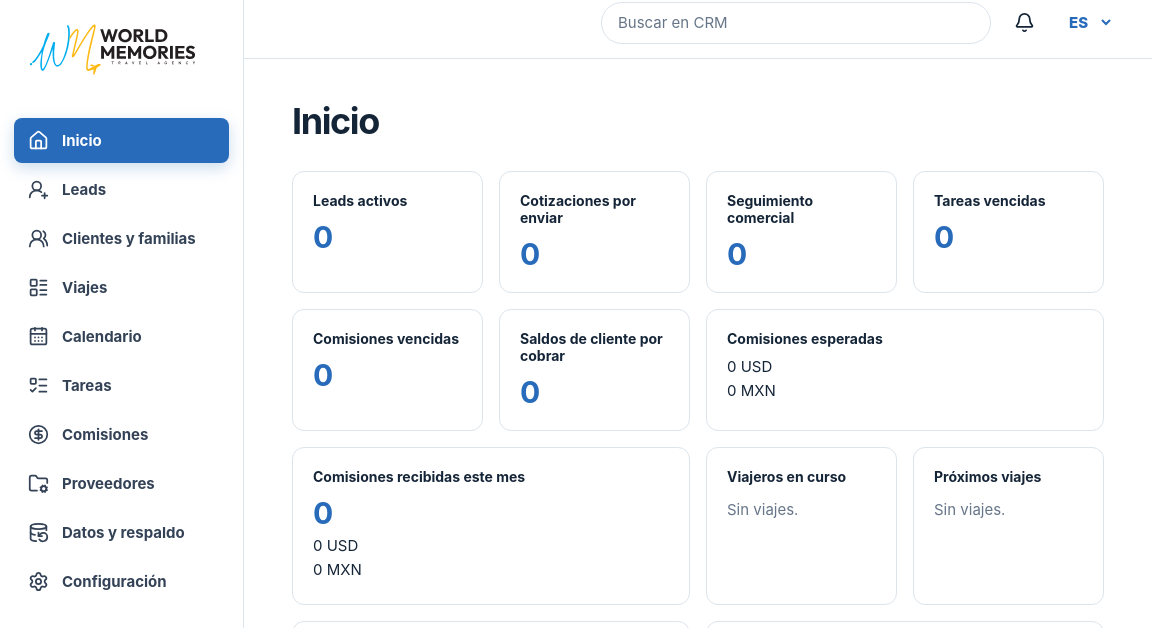
Test: application shell › edits a Client from its visible action menu and persists the correction
The image size is (1152, 628).
Click the button "Clientes y familias": (122,239) [14,216,229,261]
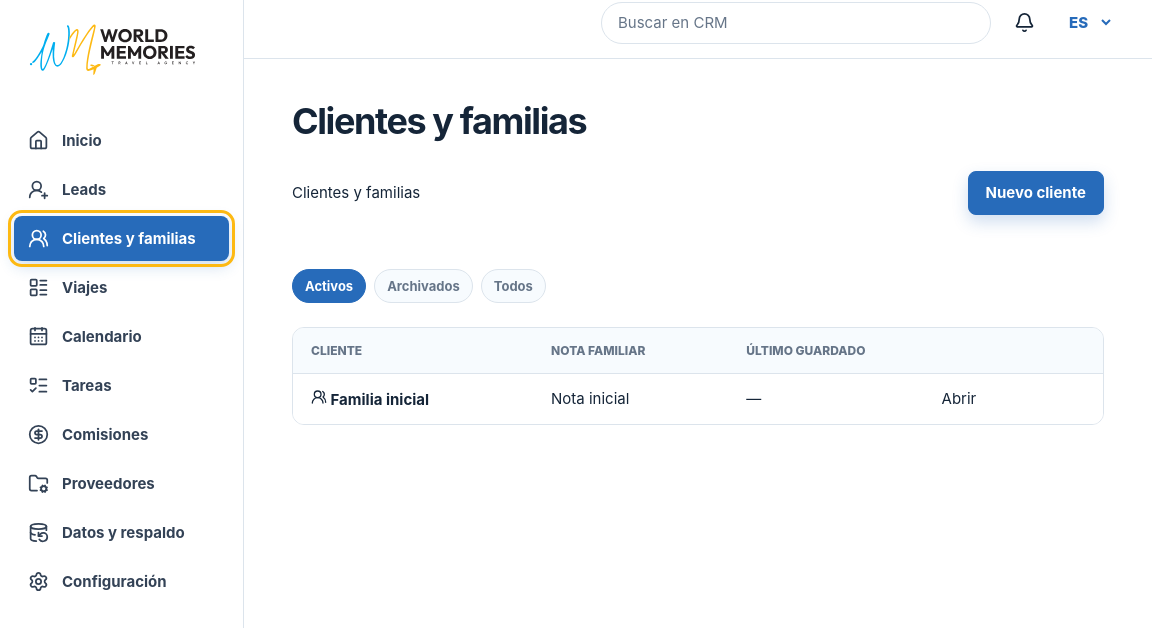
Click the button "Familia inicial Nota inicial — Abrir": (380,399) [293,373,1103,424]
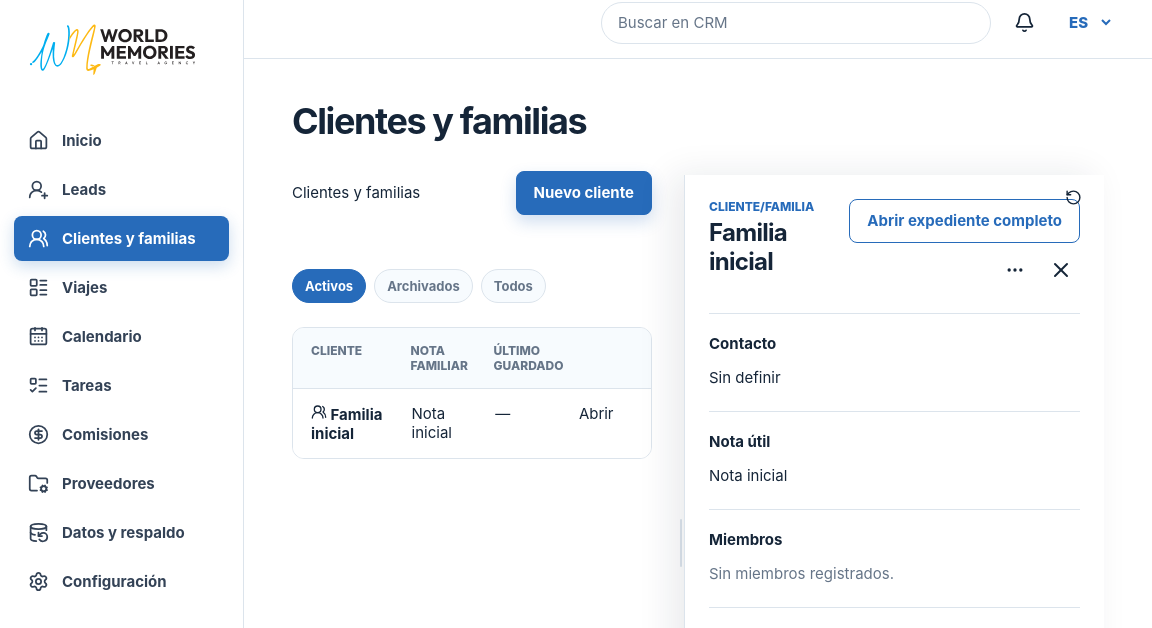
Click the button named "Acciones del cliente Familia inicial": (1015,270) [996,251,1034,289]
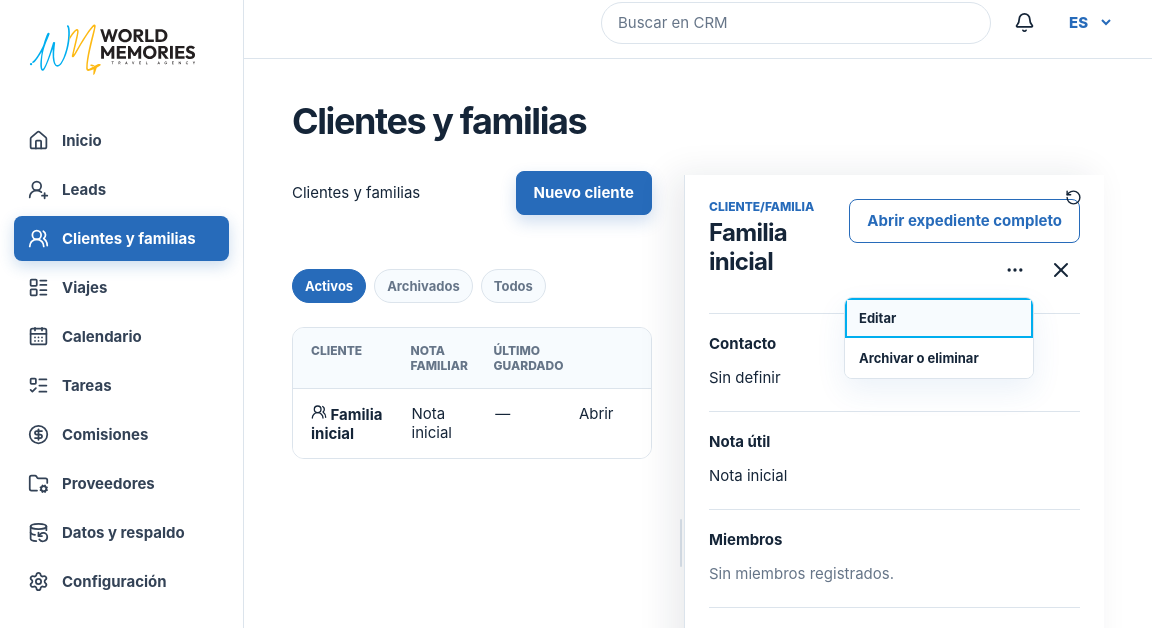
Click the menu item "Editar": (939,318) [845,298,1033,338]
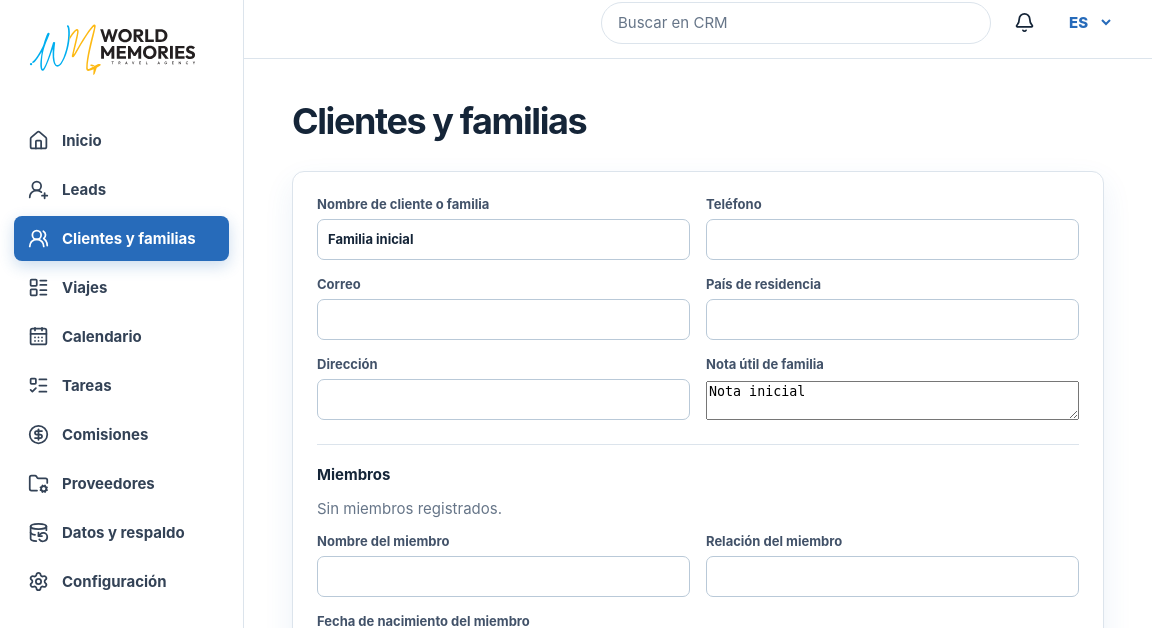
Replace the text in the text box labelled "Nota útil de familia" with "Nota corregida": (892,401) [706,381,1079,420]
(page scrolled)
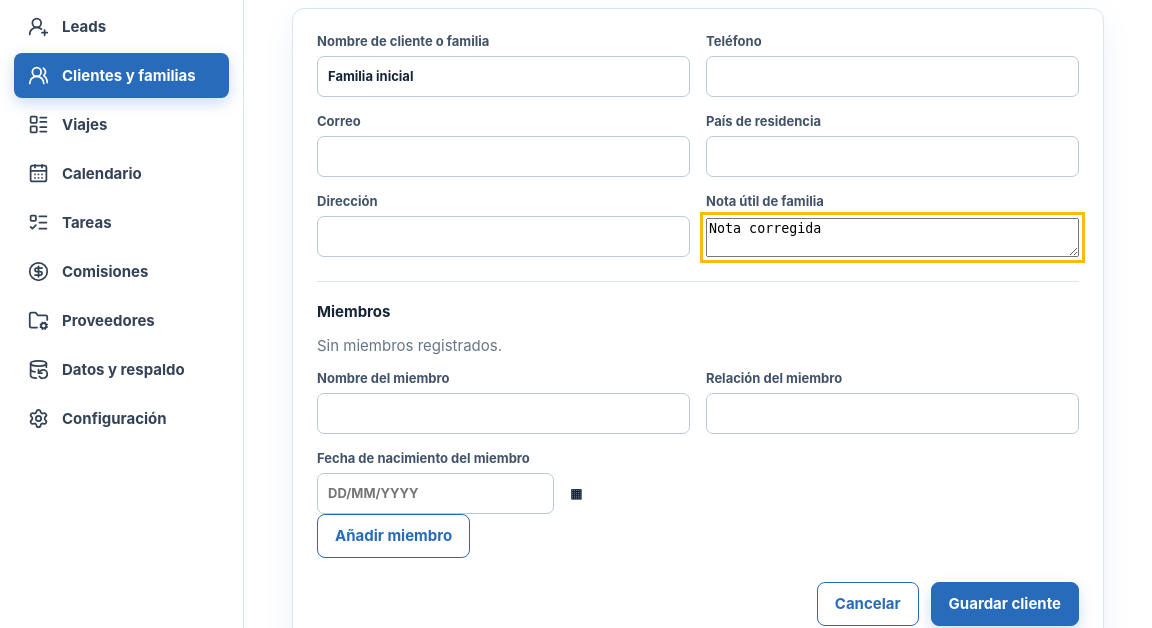
Click the button "Guardar cliente": (1005,604) [931,582,1079,626]
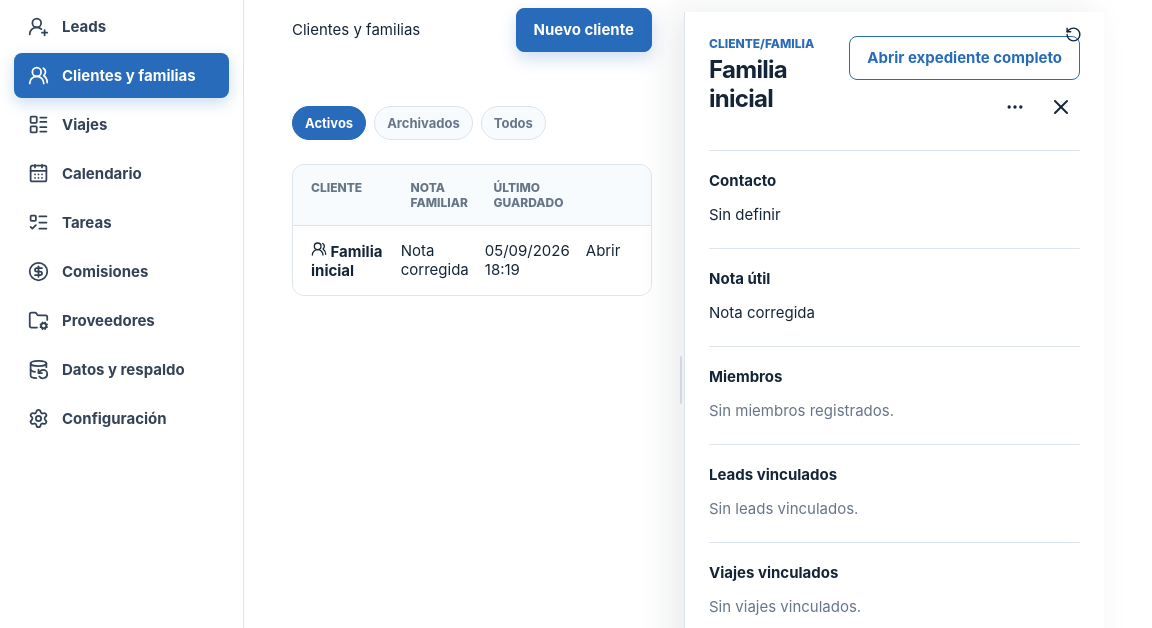
Now the text "Nota corregida" below "Nota familiar" is shown, box [401,241,469,279]
